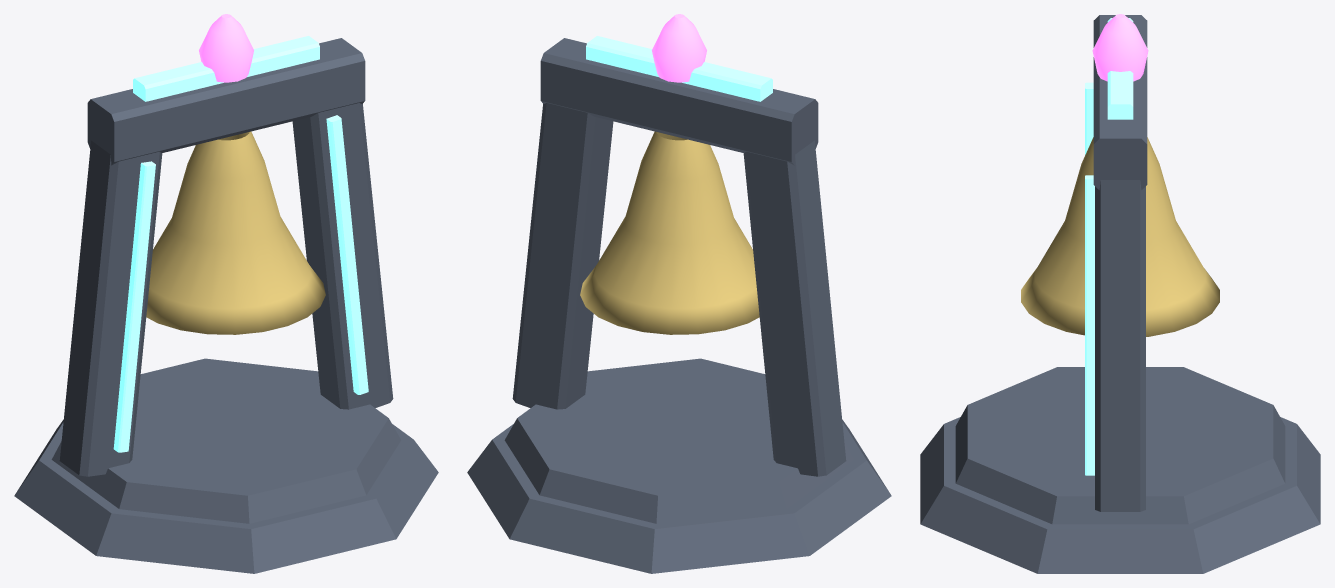
The model's file is prop_bell.glb.
3 renders of one model, left to right at view 1: azimuth 30°, elevation 25°; view 2: azimuth 150°, elevation 25°; view 3: azimuth 270°, elevation 25°, orthographic.
Parts seen in each view (by area): view 1: Body; view 2: Body; view 3: Body.
Part boxes in pixels (left/top/right/bottom): Body: left=14, top=14, right=438, bottom=573; Body: left=467, top=14, right=891, bottom=573; Body: left=920, top=14, right=1320, bottom=573.
Size of the model in its own units: 0.6282 by 0.82 by 0.6282.
